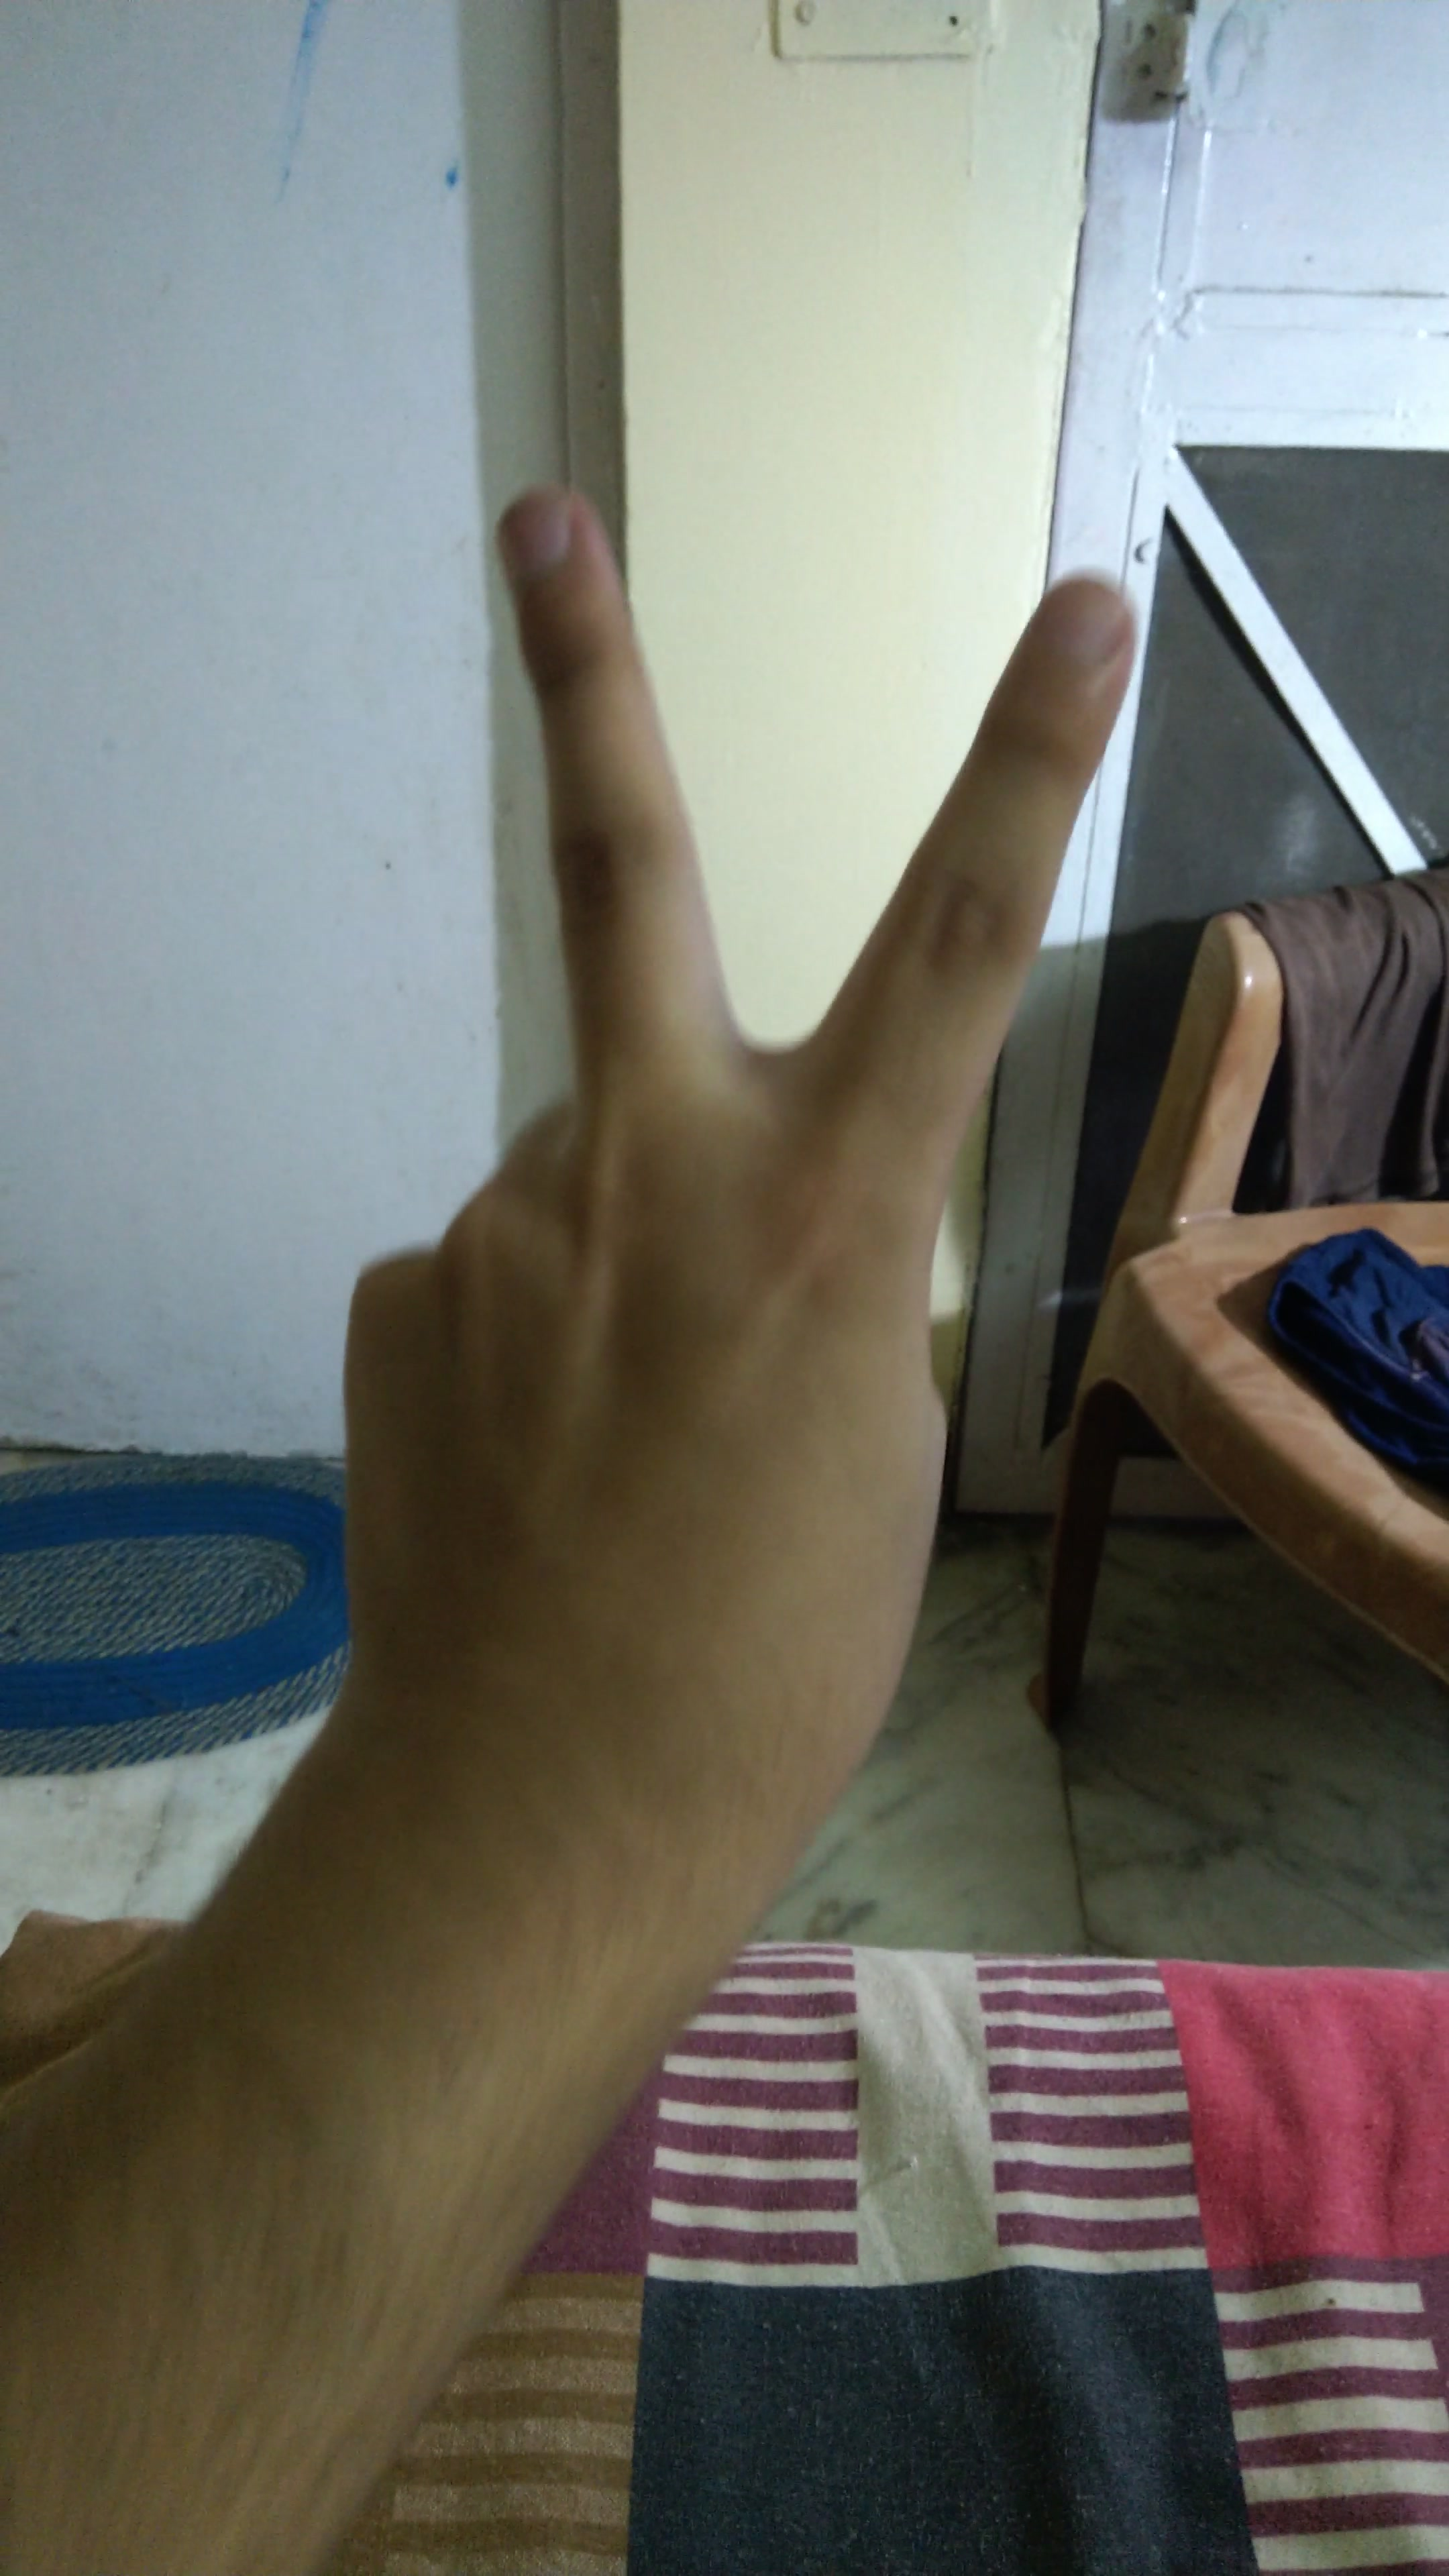hand: (205, 464, 1187, 1930)
